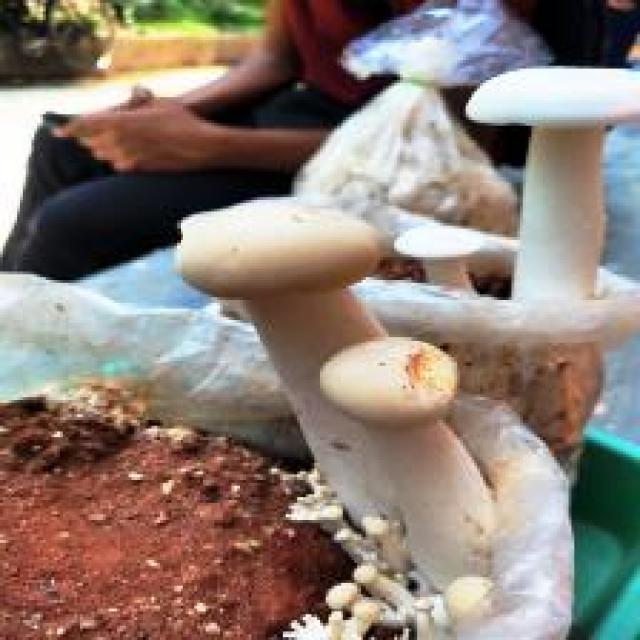chanterelle: (172, 192, 574, 637)
